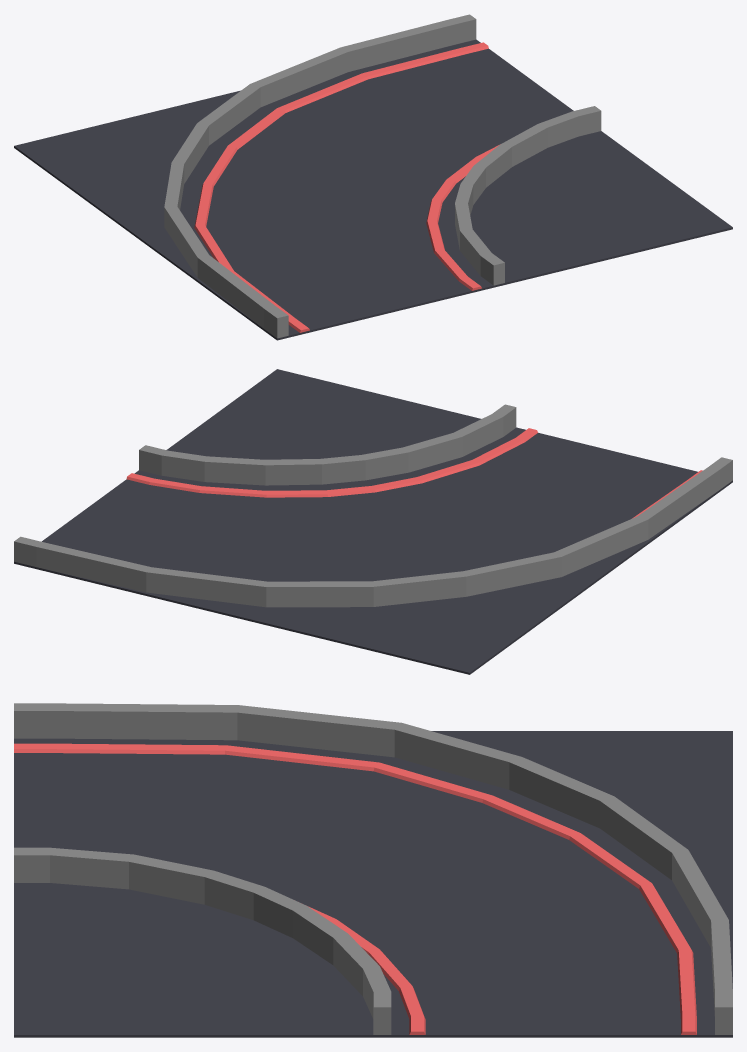
Rendered from kartkids_base_trk_530_trn_90_l_4x4.glb.
The picture shows the model from 3 angles, top to bottom: view 1: azimuth 30°, elevation 25°; view 2: azimuth 150°, elevation 25°; view 3: azimuth 270°, elevation 25°; orthographic projection. The views are drawn at different scales.
Visible parts, largest first — view 1: kartkids_base_trk_530_trn_90_l_4x4, kartkids_base_trk_530_trn_90_l_4x4.001, kartkids_base_trk_530_trn_90_l_4x4.003, kartkids_base_trk_530_trn_90_l_4x4.002; view 2: kartkids_base_trk_530_trn_90_l_4x4, kartkids_base_trk_530_trn_90_l_4x4.001, kartkids_base_trk_530_trn_90_l_4x4.003, kartkids_base_trk_530_trn_90_l_4x4.002; view 3: kartkids_base_trk_530_trn_90_l_4x4, kartkids_base_trk_530_trn_90_l_4x4.001, kartkids_base_trk_530_trn_90_l_4x4.003, kartkids_base_trk_530_trn_90_l_4x4.002.
Boxes of the visible parts, box(x1,y1,x2,y2) form: kartkids_base_trk_530_trn_90_l_4x4: box(14, 39, 732, 340); kartkids_base_trk_530_trn_90_l_4x4.001: box(164, 14, 476, 338); kartkids_base_trk_530_trn_90_l_4x4.003: box(455, 106, 601, 285); kartkids_base_trk_530_trn_90_l_4x4.002: box(194, 42, 500, 332); kartkids_base_trk_530_trn_90_l_4x4: box(14, 369, 732, 674); kartkids_base_trk_530_trn_90_l_4x4.001: box(14, 457, 732, 607); kartkids_base_trk_530_trn_90_l_4x4.003: box(139, 404, 516, 485); kartkids_base_trk_530_trn_90_l_4x4.002: box(126, 428, 702, 518); kartkids_base_trk_530_trn_90_l_4x4: box(14, 731, 732, 1037); kartkids_base_trk_530_trn_90_l_4x4.001: box(14, 703, 732, 1034); kartkids_base_trk_530_trn_90_l_4x4.003: box(14, 847, 391, 1034); kartkids_base_trk_530_trn_90_l_4x4.002: box(14, 743, 696, 1034).
Size of the model in its own units: 20 by 0.9339 by 20.
